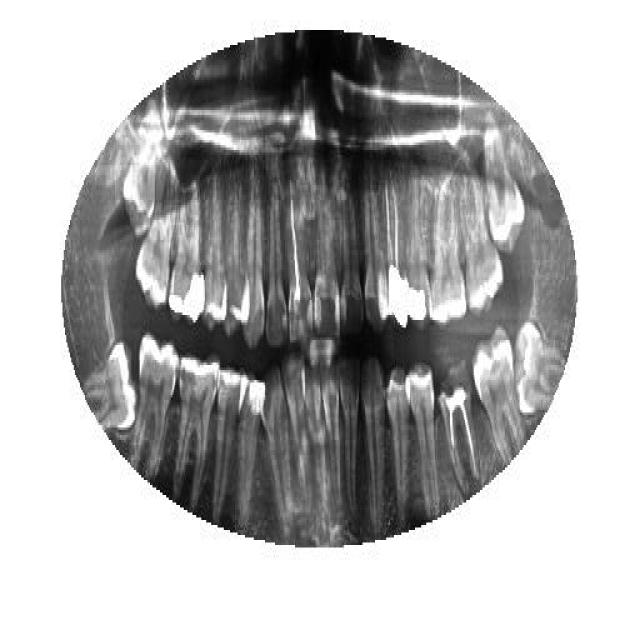Cavity: (439, 353, 481, 485), (313, 172, 342, 340), (341, 182, 364, 340)
Fillings: (169, 180, 206, 322), (236, 368, 265, 528), (405, 188, 426, 322)
Impacted Tooth: (510, 318, 570, 412), (81, 338, 140, 428)
Implant: (438, 352, 478, 488), (382, 172, 408, 330)
